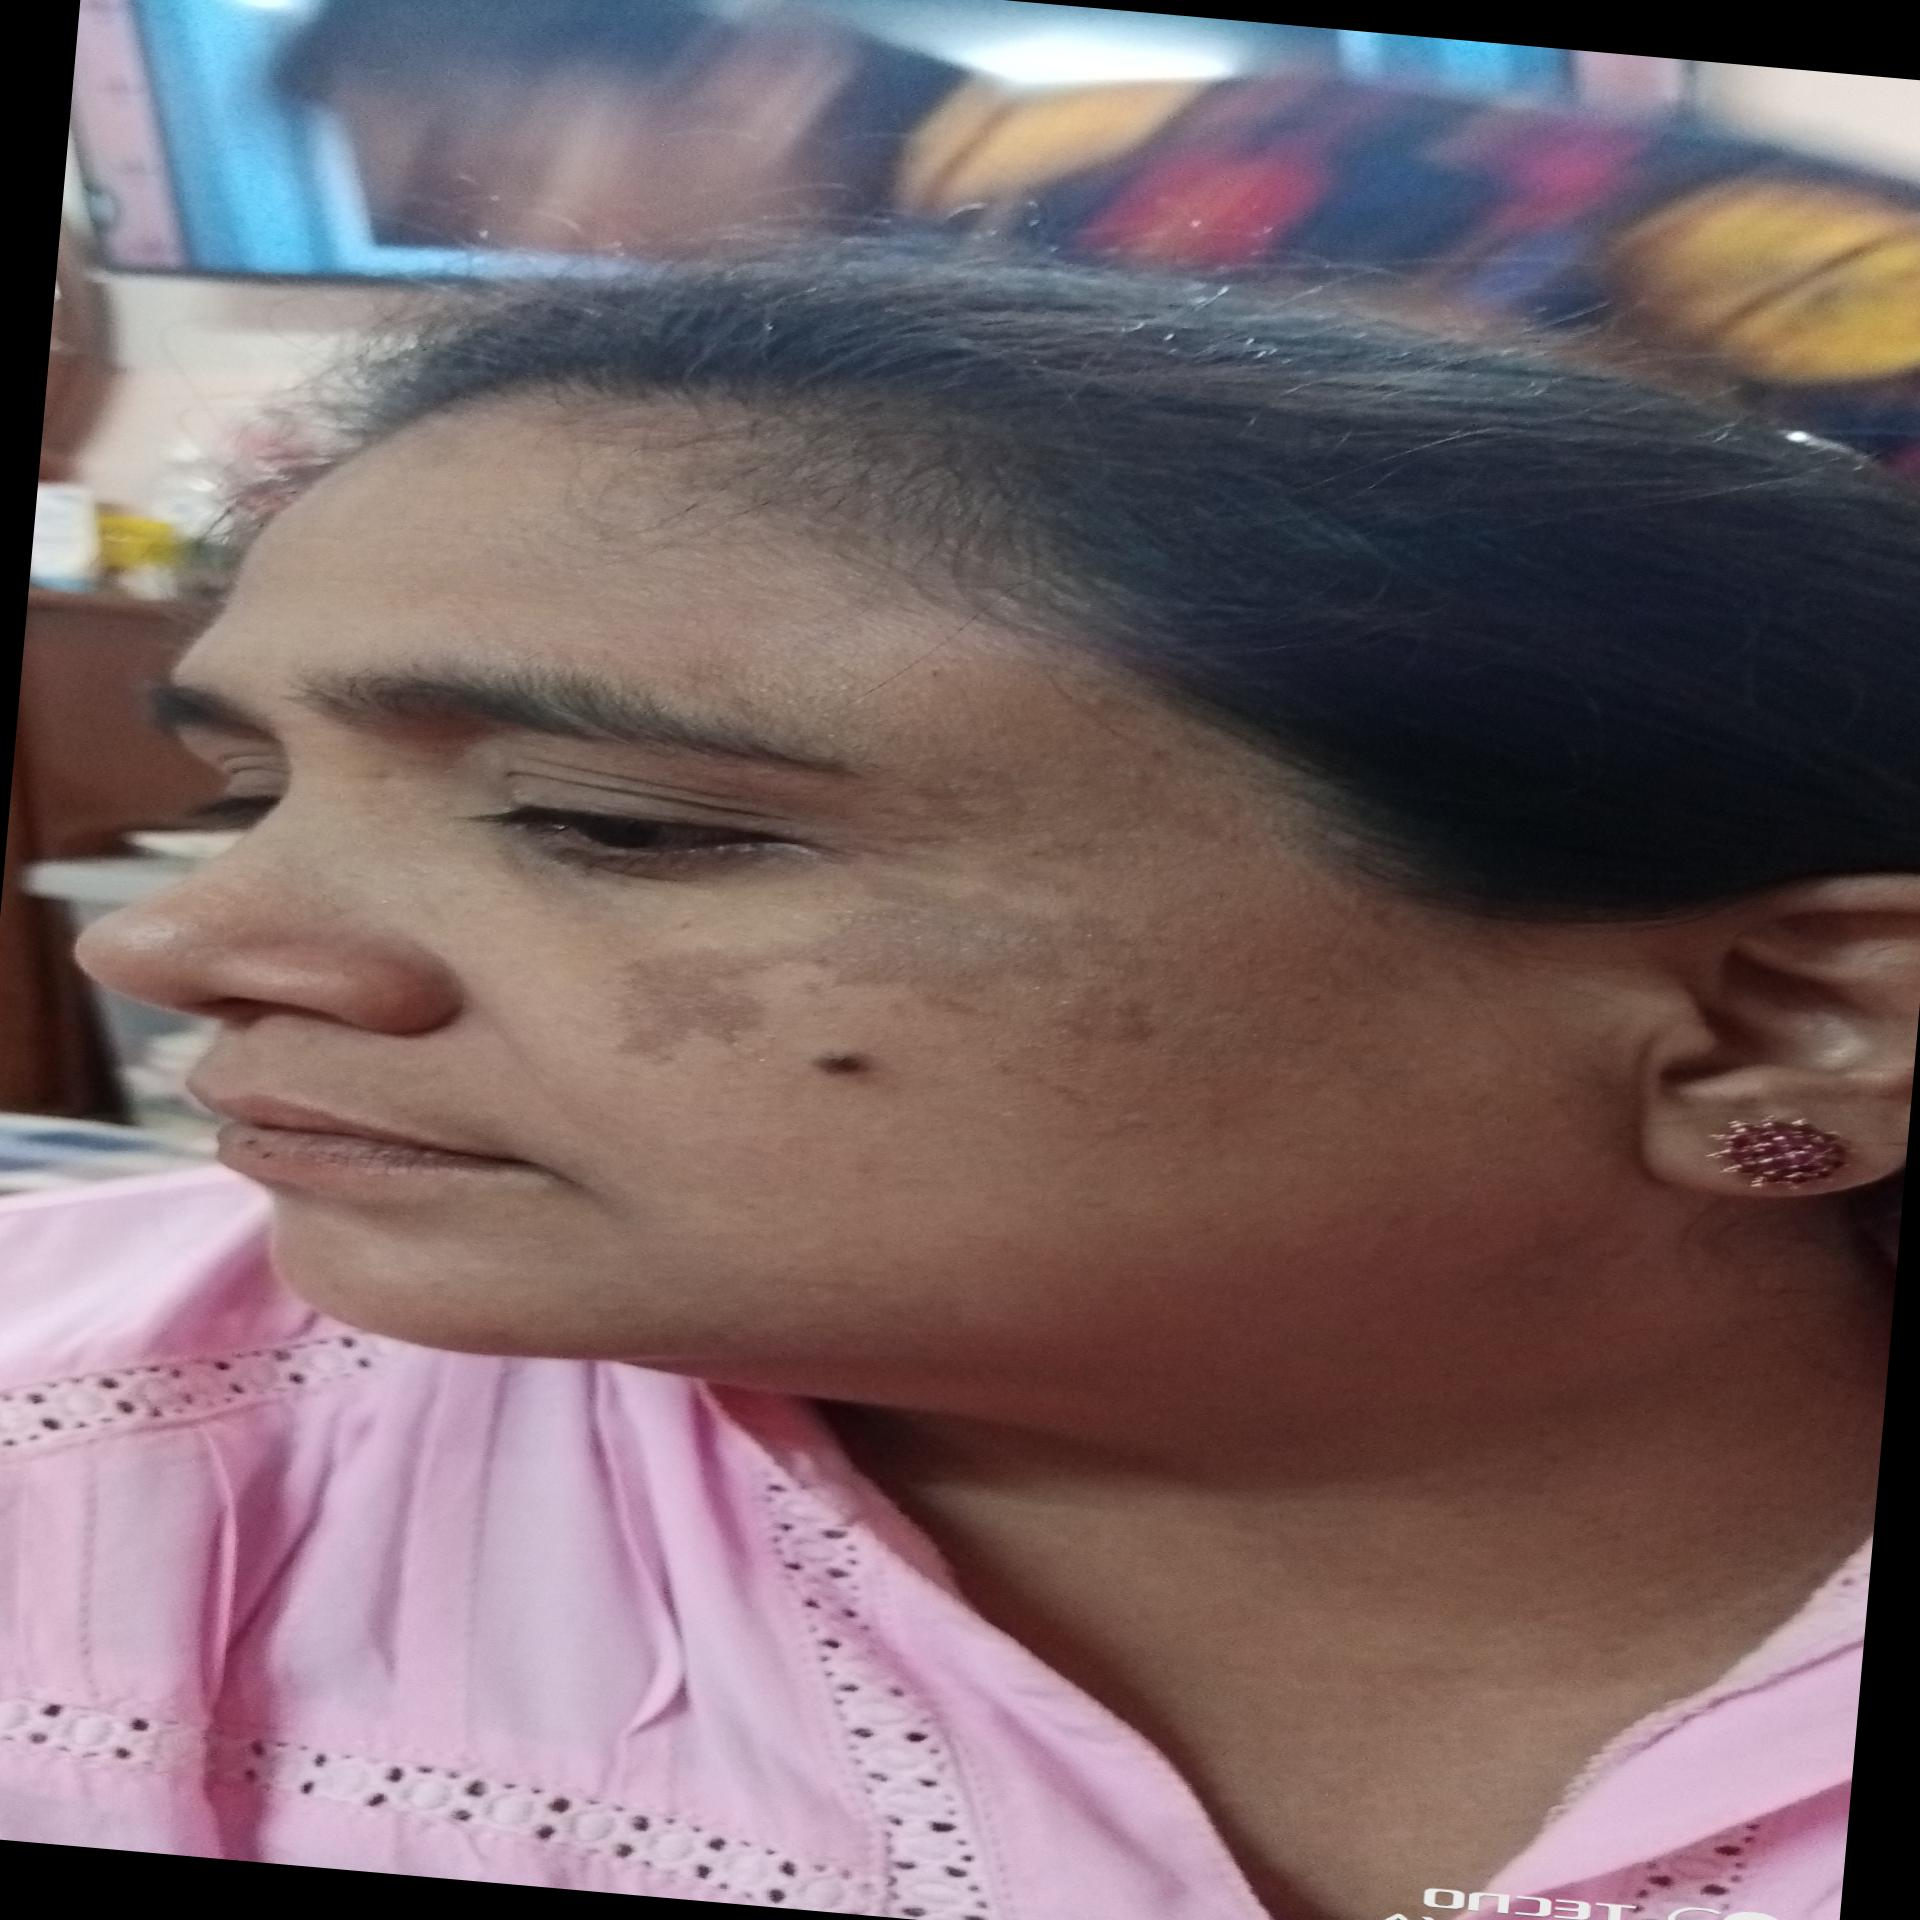Dry Skin: (847, 897, 1094, 976)
Wrinkles: (452, 992, 593, 1134), (267, 510, 554, 554), (547, 1171, 636, 1220)
